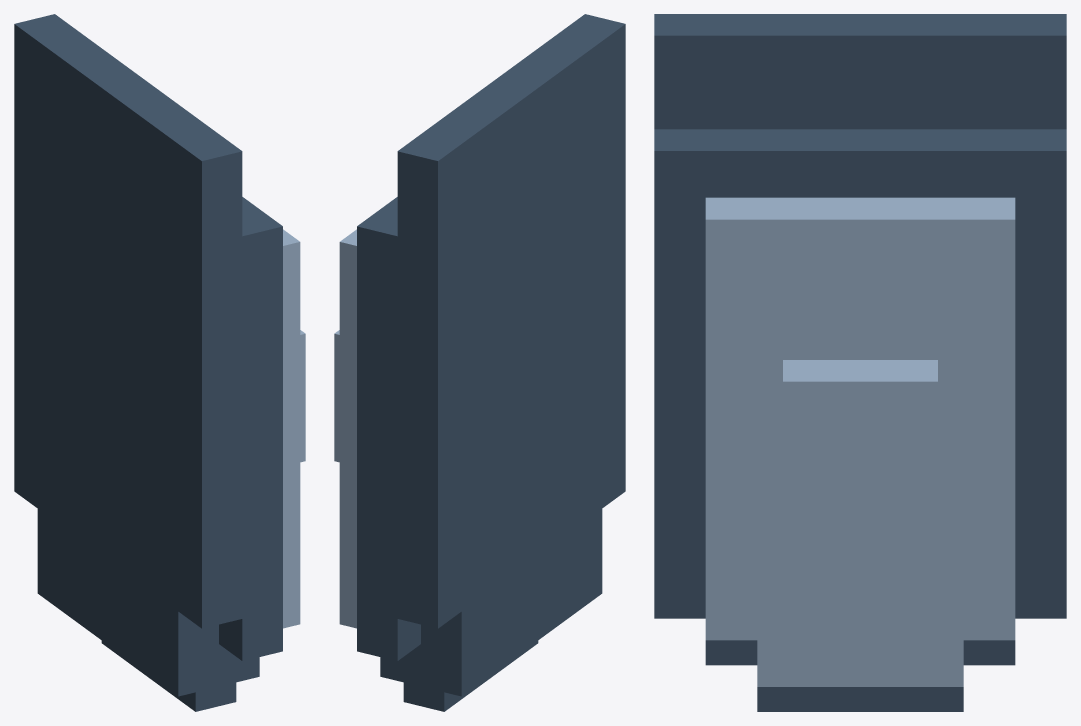
File: shield.glb
The picture shows the model from 3 angles, left to right: view 1: azimuth 30°, elevation 25°; view 2: azimuth 150°, elevation 25°; view 3: azimuth 270°, elevation 25°; orthographic projection. The views are drawn at different scales.
Visible parts, largest first — view 1: generated(Clone); view 2: generated(Clone); view 3: generated(Clone).
Part boxes in pixels (x1,y1,x2,y2): generated(Clone): (14,14,305,711); generated(Clone): (334,14,625,711); generated(Clone): (654,14,1066,711).
Size of the model in its own units: 4 by 14 by 8.
